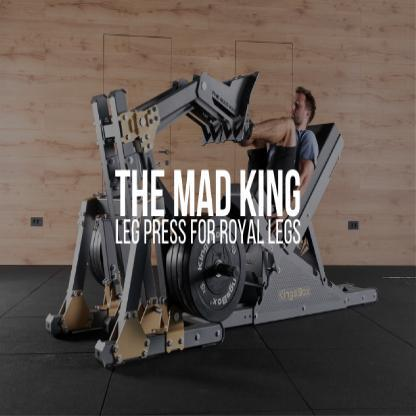leg press: (41, 38, 398, 389)
